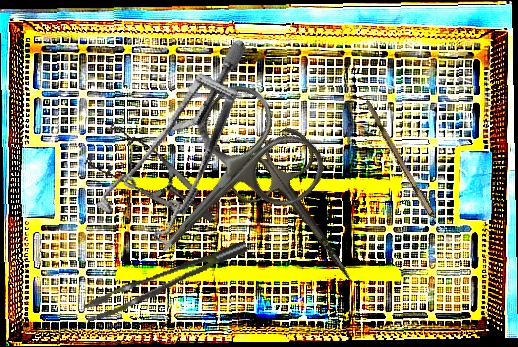Iris Scissors: (113, 73, 336, 297), (220, 121, 386, 307)
Speculum: (58, 38, 309, 265), (73, 100, 215, 258)
Surgical Spoon: (361, 99, 462, 260)
Tissue Forceps: (78, 240, 255, 323)
